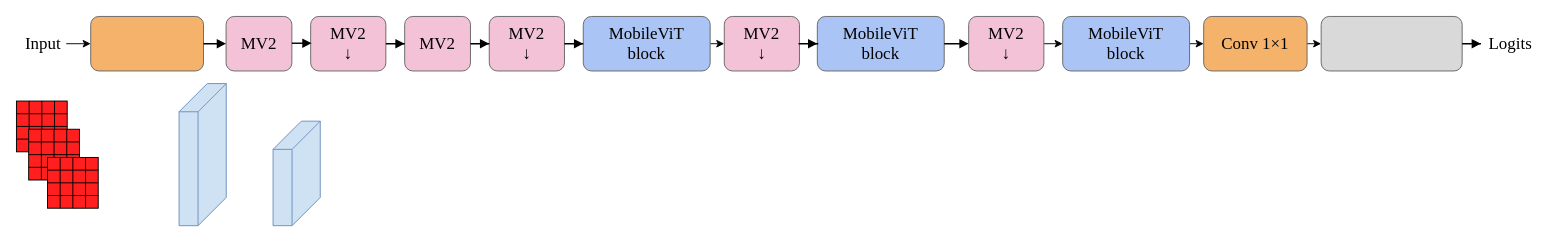
Image size: 1555x243. Some labels were removed from this diagram. The centre of each missing label's shape, as x and y in pixels:
Conv 3×3 ↓ 2: point 147,43
Global pool → linear: point 1391,43
